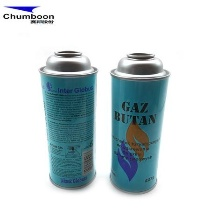aerosol_cans: (107, 48, 172, 196), (36, 47, 99, 192)
